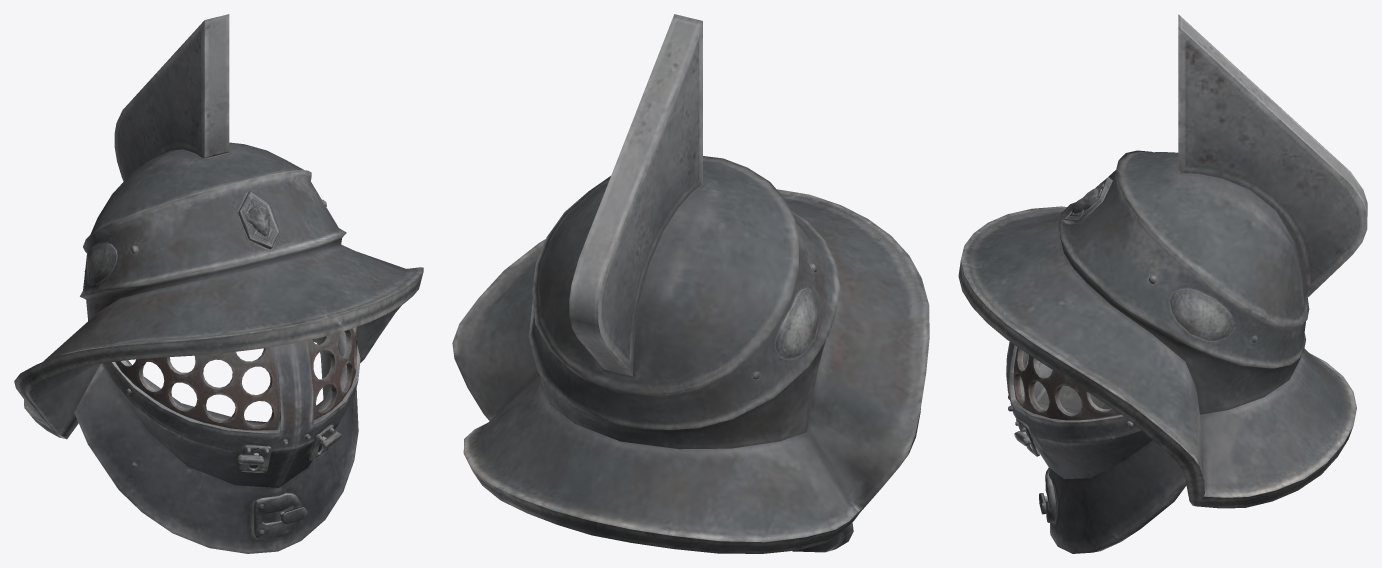
Rendered from gladiator-9bcb0ac9d566.glb.
3 renders of one model, left to right at view 1: azimuth 30°, elevation 25°; view 2: azimuth 150°, elevation 25°; view 3: azimuth 270°, elevation 25°, orthographic. The views are drawn at different scales.
Visible parts, largest first — view 1: Helmet_L_01, Helmet_L_02, Helmet_L_03, Helmet_L_09, Helmet_L_04; view 2: Helmet_L_01, Helmet_L_04; view 3: Helmet_L_01, Helmet_L_02, Helmet_L_04, Helmet_L_03.
Boxes of the visible parts, left/top/right/bottom form: Helmet_L_01: left=14, top=14, right=423, bottom=553; Helmet_L_02: left=115, top=327, right=357, bottom=430; Helmet_L_03: left=238, top=190, right=279, bottom=249; Helmet_L_09: left=254, top=493, right=302, bottom=539; Helmet_L_04: left=86, top=243, right=117, bottom=284; Helmet_L_01: left=452, top=14, right=929, bottom=553; Helmet_L_04: left=775, top=288, right=818, bottom=358; Helmet_L_01: left=958, top=14, right=1367, bottom=553; Helmet_L_02: left=1013, top=347, right=1121, bottom=420; Helmet_L_04: left=1170, top=288, right=1234, bottom=340; Helmet_L_03: left=1063, top=177, right=1112, bottom=223.
Bounding box in the file's own units: 0.4101 × 0.4906 × 0.3537.
1 material, 1 textured.
